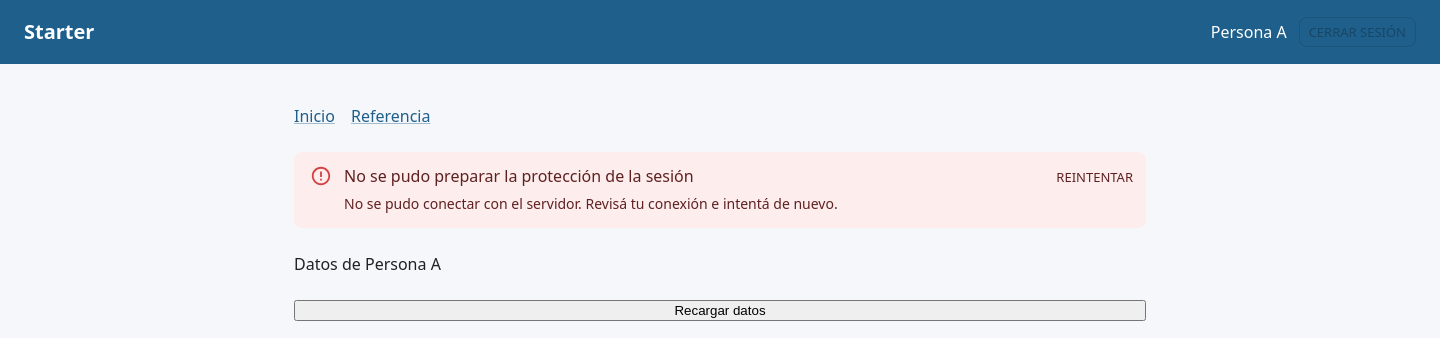
Test: Sesión en el shell › si falla el CSRF lo explica, mantiene deshabilitado el cierre y permite reintentar
Check: the text "No se pudo preparar la protección de la sesión" is shown, box [344,165,694,187]
Check: the button "Cerrar sesión" is disabled, box [1299,17,1416,47]
Click the button "Reintentar". click: click(1095, 177)
box: [1051,162,1138,193]
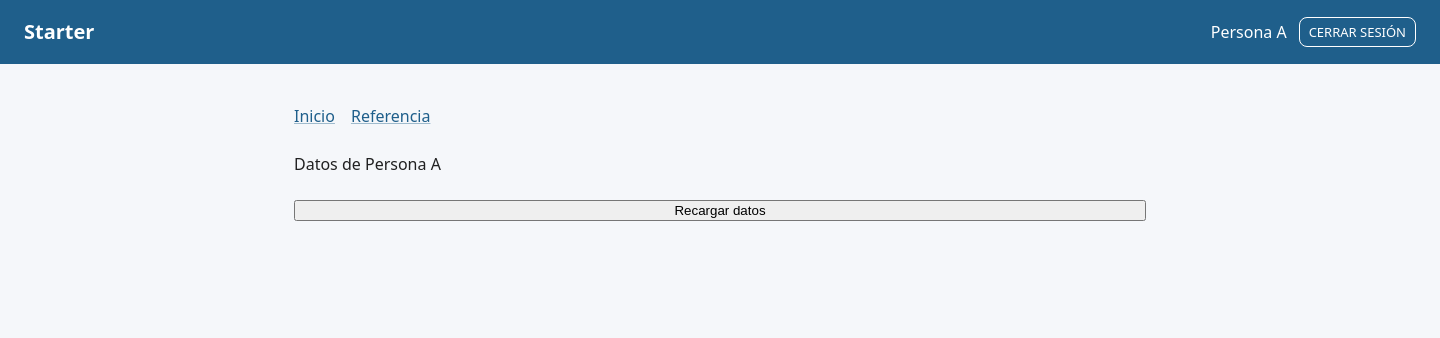
Check: the button "Cerrar sesión" is enabled, box [1299,17,1416,47]
Check: the message is gone
